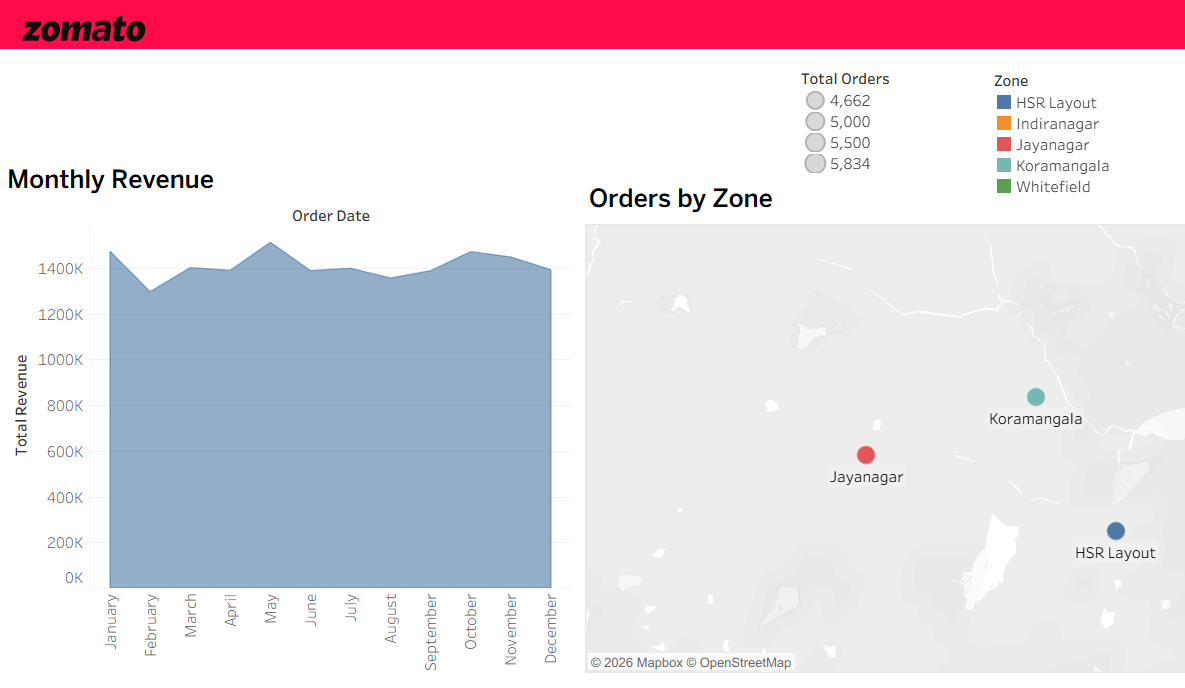

This screenshot's page, from the dashboard's own definition file:
{"tool":"tableau","page":{"name":"Dashboard 1","canvas":[1200,700],"ordinal":0},"visuals":[{"type":"title","box":[0,0,1200,50]},{"type":"image","param":"C:/Users/deipt/Downloads/Zomato_Logo_1.png","box":[10,13,150,44]},{"type":"legend","title":"Sheet 3","param":"[federated.00f81pu1ad2aau1evwi090qmuthq].[usr:Calculation_630504008621113345:qk]","box":[802,75,188,116]},{"type":"legend","title":"Sheet 3","param":"[federated.00f81pu1ad2aau1evwi090qmuthq].[none:zone:nk]","box":[995,77,211,131]},{"type":"worksheet","title":"Sheet 2","mark":"Area","rows":["Calculation_630504008620990464"],"cols":["order_date"],"box":[4,167,568,528]},{"type":"worksheet","title":"Sheet 3","mark":"Automatic","rows":["zone_lat"],"cols":["zone_lng"],"box":[586,186,605,494]}]}

Visuals, with their boxes in screenshot pixels (x1, y1, x2, y2), scaled from the page's 1200x700 canvas onto the 1185x688 screenshot:
title: 0 0 1184 49
image: 10 13 158 56
"Sheet 3" legend: 792 74 978 188
"Sheet 3" legend: 983 76 1184 204
"Sheet 2" worksheet (Area marks): 4 164 565 683
"Sheet 3" worksheet: 579 183 1176 668
